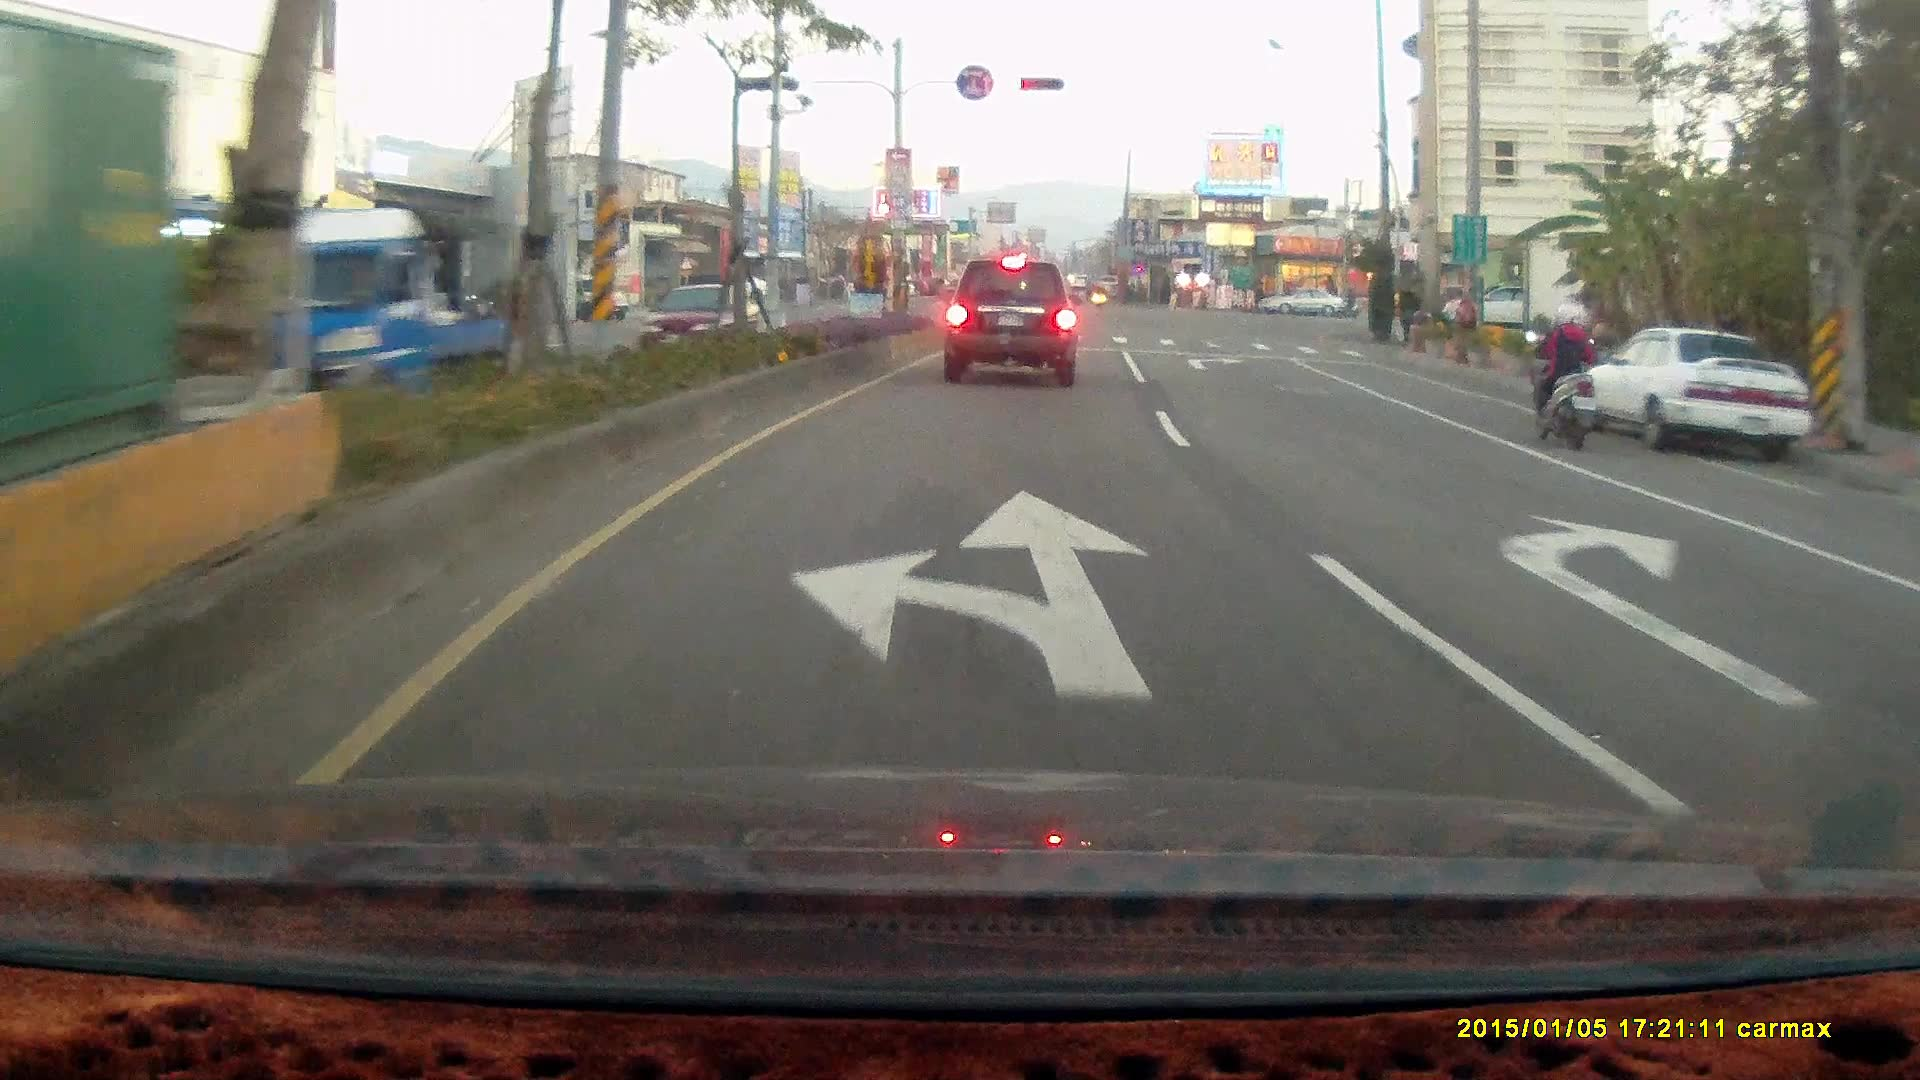rider: (1521, 302, 1602, 452), (1332, 283, 1360, 318)
vehicle: (217, 206, 520, 410), (1564, 323, 1816, 466), (1566, 323, 1817, 463), (940, 258, 1078, 388), (1896, 493, 1920, 836), (1883, 528, 1920, 690), (1442, 282, 1552, 331), (1257, 284, 1344, 318)
